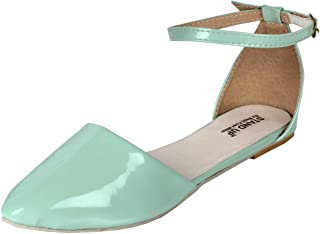shoes: (1, 1, 320, 232)
